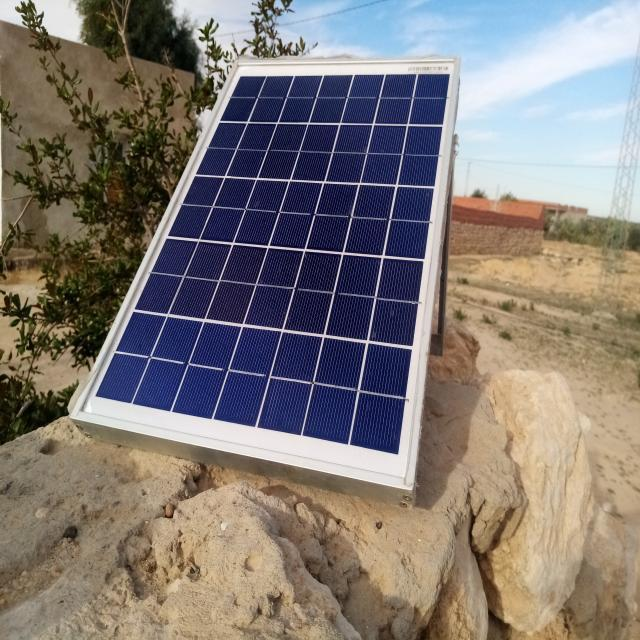Normal Solar Panel: (75, 55, 455, 482)
